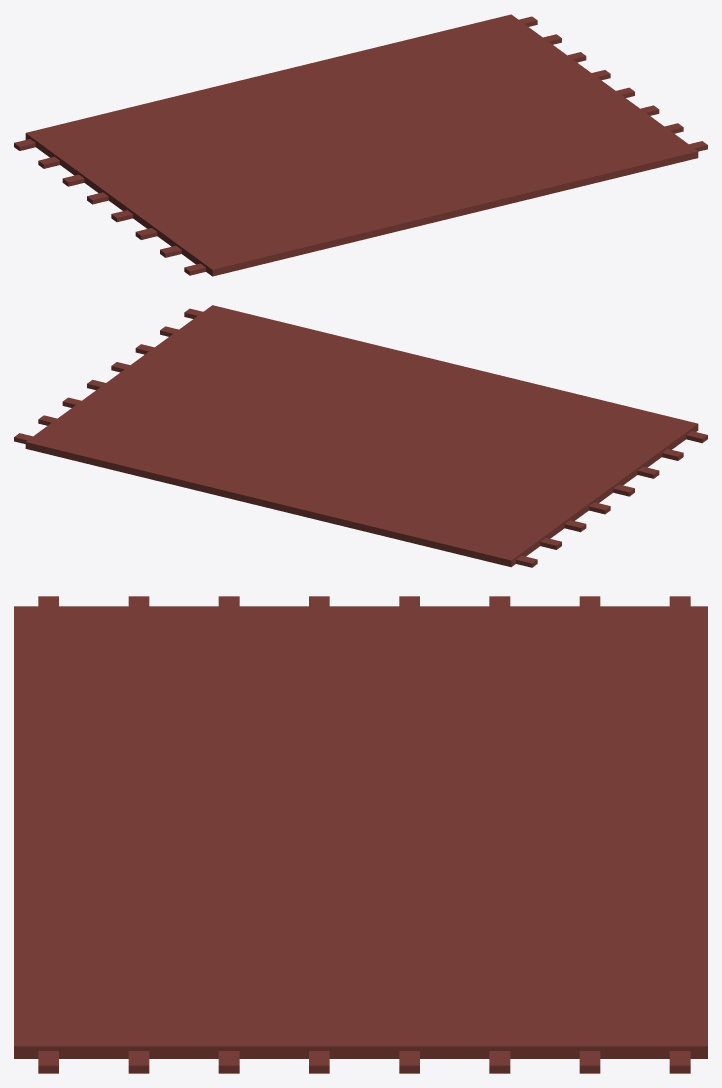
The model's file is rug.fbx.
3 views of the same model, one above another, from view 1: azimuth 30°, elevation 25°; view 2: azimuth 150°, elevation 25°; view 3: azimuth 270°, elevation 25° (orthographic). The views are drawn at different scales.
Visible parts, largest first — view 1: rug; view 2: rug; view 3: rug.
Part boxes in pixels (left/top/right/bottom): rug: left=14, top=14, right=707, bottom=276; rug: left=14, top=305, right=707, bottom=567; rug: left=14, top=596, right=707, bottom=1073.
Size of the model in its own units: 640 by 8 by 400.
